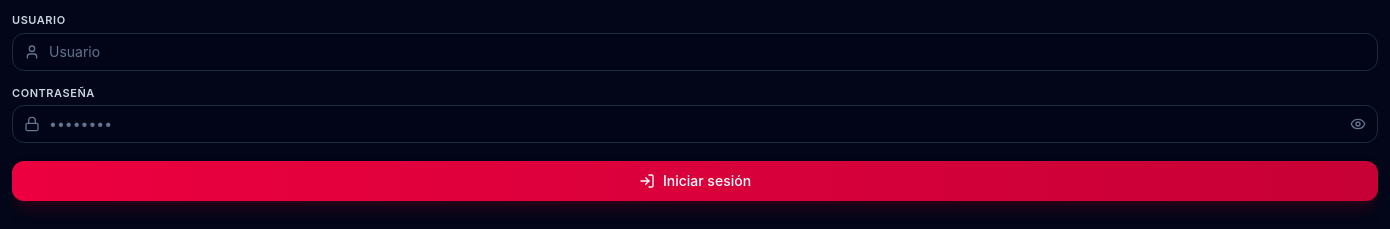
Test: LoginForm authentication component › toggles password visibility when clicking the eye icon
Click the button named "mostrar contraseña": {"x": 1364, "y": 124} [1350, 105, 1378, 143]
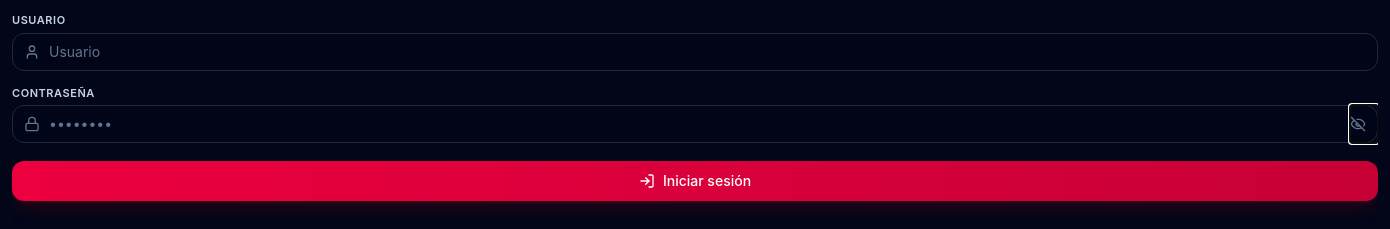
Check: the button named "ocultar contraseña" is shown, box [1350, 105, 1378, 143]
